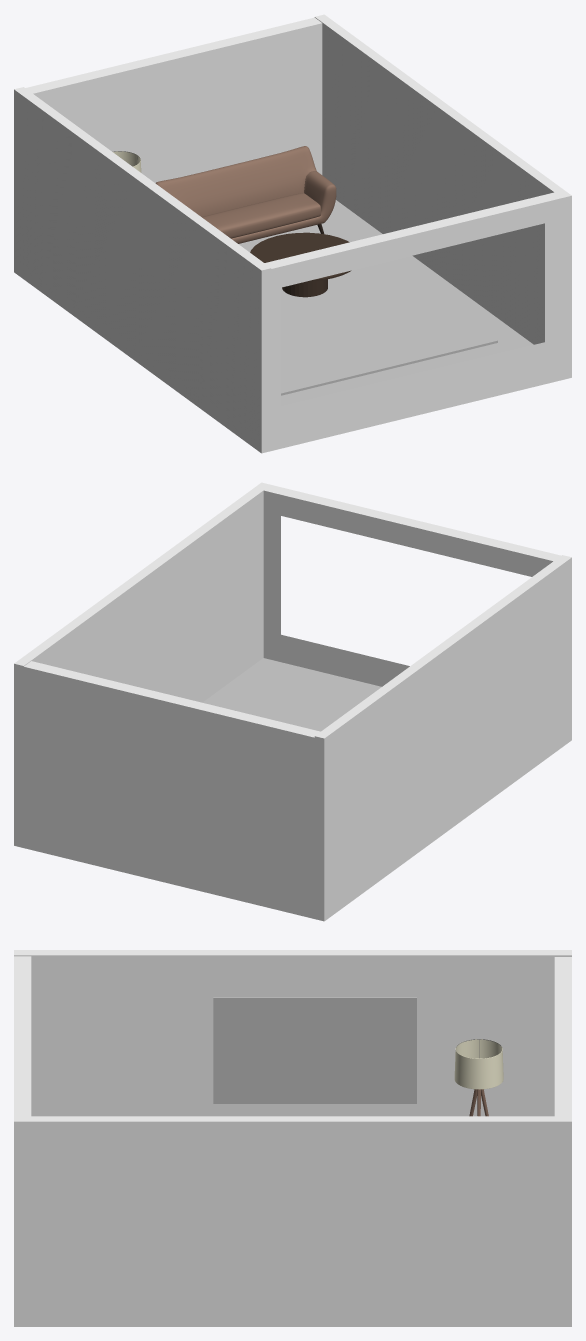
File: roomv2.gltf
3 views of the same model, one above another, from view 1: azimuth 30°, elevation 25°; view 2: azimuth 150°, elevation 25°; view 3: azimuth 270°, elevation 25° (orthographic). The views are drawn at different scales.
Visible parts, largest first — view 1: Cube, rug, sofa_mesh_n3d, Plane, pillow_002_mesh_n3d, table; view 2: Cube, Plane, rug; view 3: Cube, paint, cover_mesh_n3d.
Boxes of the visible parts, box(x1,y1,x2,y2) form: Cube: box(14, 14, 571, 453); rug: box(238, 217, 497, 395); sofa_mesh_n3d: box(155, 146, 336, 243); Plane: box(281, 200, 533, 406); pillow_002_mesh_n3d: box(202, 193, 320, 238); table: box(250, 232, 351, 297); Cube: box(14, 482, 571, 921); Plane: box(202, 658, 381, 708); rug: box(225, 685, 352, 731); Cube: box(14, 950, 571, 1326); paint: box(213, 997, 416, 1103); cover_mesh_n3d: box(454, 1039, 503, 1089).
Bounding box in the file's own units: 63.02 × 35.79 × 87.05.
